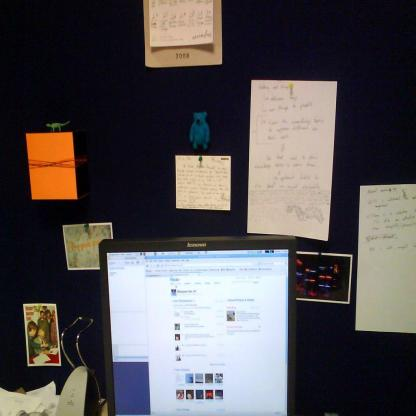board: (93, 242, 292, 414)
